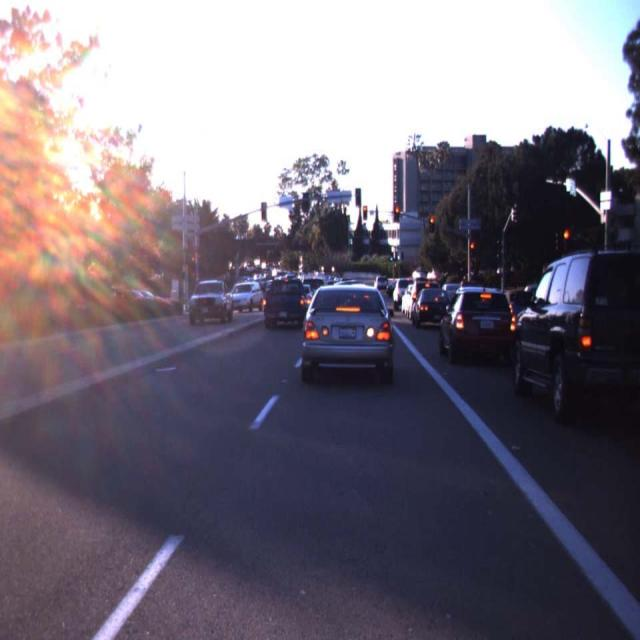kirmizi: (470, 242, 476, 258), (394, 206, 399, 222), (363, 207, 368, 220), (430, 216, 434, 232)
